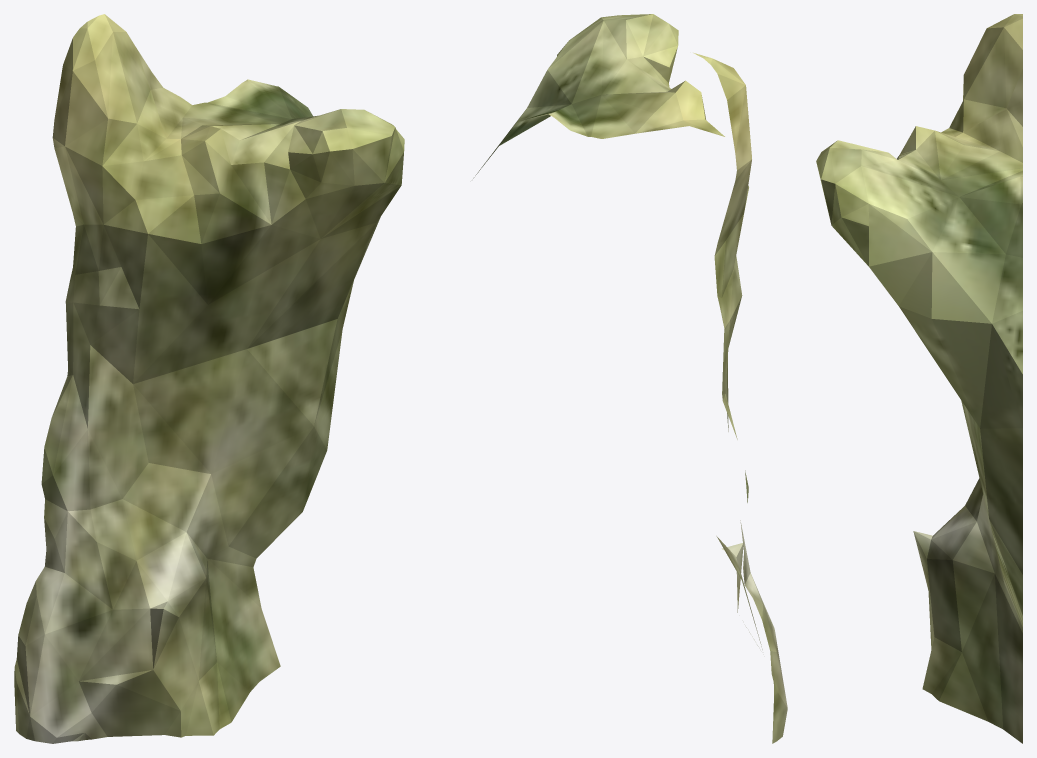
3 views of the same model, side by side, from view 1: azimuth 30°, elevation 25°; view 2: azimuth 150°, elevation 25°; view 3: azimuth 270°, elevation 25° (orthographic). The views are drawn at different scales.
Size of the model in its own units: 1.87 by 3.51 by 1.02.
Materials: 1 (1 with a texture image).
